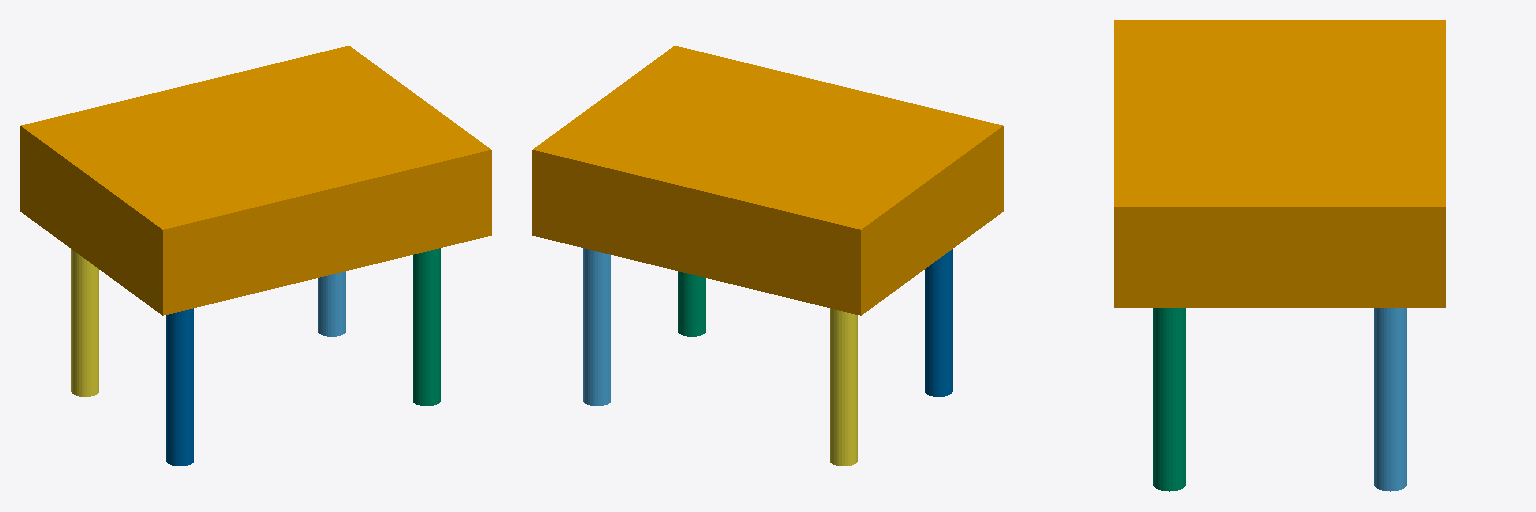
The robot description file, URDF, robot "quadruped":
<?xml version="1.0"?>
<!-- Floating-base table on four vertical legs, each with one hip pitch joint. Only the feet (2 cm
     spheres at the leg tips) collide. With the hips at zero the base center stands at
     z = 0.05 + 0.2 + 0.02 = 0.27 m. No floating joint: Drake adds the free base. -->
<robot name="quadruped">
  <link name="base">
    <inertial>
      <mass value="4.0"/>
      <!-- solid box 0.4 x 0.3 x 0.1 m -->
      <inertia ixx="0.0333" ixy="0" ixz="0" iyy="0.0567" iyz="0" izz="0.0833"/>
    </inertial>
    <visual>
      <geometry>
        <box size="0.4 0.3 0.1"/>
      </geometry>
    </visual>
  </link>

  <link name="FL_leg">
    <inertial>
      <origin xyz="0 0 -0.1"/>
      <mass value="0.25"/>
      <inertia ixx="0.00085" ixy="0" ixz="0" iyy="0.00085" iyz="0" izz="0.00005"/>
    </inertial>
    <visual>
      <origin xyz="0 0 -0.1"/>
      <geometry><cylinder radius="0.015" length="0.2"/></geometry>
    </visual>
    <collision>
      <origin xyz="0 0 -0.2"/>
      <geometry><sphere radius="0.02"/></geometry>
    </collision>
  </link>
  <joint name="FL_hip" type="revolute">
    <parent link="base"/>
    <child link="FL_leg"/>
    <origin xyz="0.15 0.1 -0.05"/>
    <axis xyz="0 1 0"/>
    <limit lower="-1.5" upper="1.5" effort="20" velocity="30"/>
  </joint>

  <link name="FR_leg">
    <inertial>
      <origin xyz="0 0 -0.1"/>
      <mass value="0.25"/>
      <inertia ixx="0.00085" ixy="0" ixz="0" iyy="0.00085" iyz="0" izz="0.00005"/>
    </inertial>
    <visual>
      <origin xyz="0 0 -0.1"/>
      <geometry><cylinder radius="0.015" length="0.2"/></geometry>
    </visual>
    <collision>
      <origin xyz="0 0 -0.2"/>
      <geometry><sphere radius="0.02"/></geometry>
    </collision>
  </link>
  <joint name="FR_hip" type="revolute">
    <parent link="base"/>
    <child link="FR_leg"/>
    <origin xyz="0.15 -0.1 -0.05"/>
    <axis xyz="0 1 0"/>
    <limit lower="-1.5" upper="1.5" effort="20" velocity="30"/>
  </joint>

  <link name="RL_leg">
    <inertial>
      <origin xyz="0 0 -0.1"/>
      <mass value="0.25"/>
      <inertia ixx="0.00085" ixy="0" ixz="0" iyy="0.00085" iyz="0" izz="0.00005"/>
    </inertial>
    <visual>
      <origin xyz="0 0 -0.1"/>
      <geometry><cylinder radius="0.015" length="0.2"/></geometry>
    </visual>
    <collision>
      <origin xyz="0 0 -0.2"/>
      <geometry><sphere radius="0.02"/></geometry>
    </collision>
  </link>
  <joint name="RL_hip" type="revolute">
    <parent link="base"/>
    <child link="RL_leg"/>
    <origin xyz="-0.15 0.1 -0.05"/>
    <axis xyz="0 1 0"/>
    <limit lower="-1.5" upper="1.5" effort="20" velocity="30"/>
  </joint>

  <link name="RR_leg">
    <inertial>
      <origin xyz="0 0 -0.1"/>
      <mass value="0.25"/>
      <inertia ixx="0.00085" ixy="0" ixz="0" iyy="0.00085" iyz="0" izz="0.00005"/>
    </inertial>
    <visual>
      <origin xyz="0 0 -0.1"/>
      <geometry><cylinder radius="0.015" length="0.2"/></geometry>
    </visual>
    <collision>
      <origin xyz="0 0 -0.2"/>
      <geometry><sphere radius="0.02"/></geometry>
    </collision>
  </link>
  <joint name="RR_hip" type="revolute">
    <parent link="base"/>
    <child link="RR_leg"/>
    <origin xyz="-0.15 -0.1 -0.05"/>
    <axis xyz="0 1 0"/>
    <limit lower="-1.5" upper="1.5" effort="20" velocity="30"/>
  </joint>
</robot>

--- Render facts (derived) ---
The picture shows the robot from 3 angles, left to right: view 1: azimuth 30°, elevation 25°; view 2: azimuth 150°, elevation 25°; view 3: azimuth 270°, elevation 25°; orthographic projection.
Robot: quadruped — 5 links, 4 joints (4 revolute); root link base; default pose: every joint at zero.
Visible links, largest first — view 1: base, FR_leg, RR_leg, RL_leg, FL_leg; view 2: base, FL_leg, RL_leg, RR_leg, FR_leg; view 3: base, FL_leg, FR_leg.
Boxes of the visible links, bbox=[...] form: base: bbox=[20, 46, 491, 315]; FR_leg: bbox=[413, 248, 440, 405]; RR_leg: bbox=[166, 308, 193, 465]; RL_leg: bbox=[71, 249, 98, 396]; FL_leg: bbox=[318, 271, 345, 336]; base: bbox=[532, 46, 1003, 315]; FL_leg: bbox=[583, 248, 610, 405]; RL_leg: bbox=[830, 308, 857, 465]; RR_leg: bbox=[925, 249, 952, 396]; FR_leg: bbox=[678, 271, 705, 336]; base: bbox=[1114, 20, 1445, 307]; FL_leg: bbox=[1374, 308, 1406, 491]; FR_leg: bbox=[1153, 308, 1185, 491].
Size in the robot's own frame: 0.4 by 0.3 by 0.3 metres.
Geometry: primitives only (box / cylinder / sphere), no mesh files.
